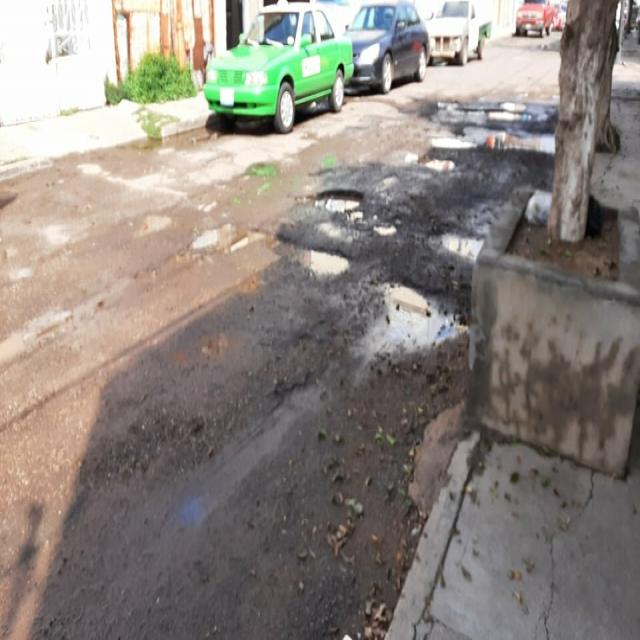Pothole: (249, 155, 428, 319), (363, 199, 463, 371), (410, 78, 529, 200)
